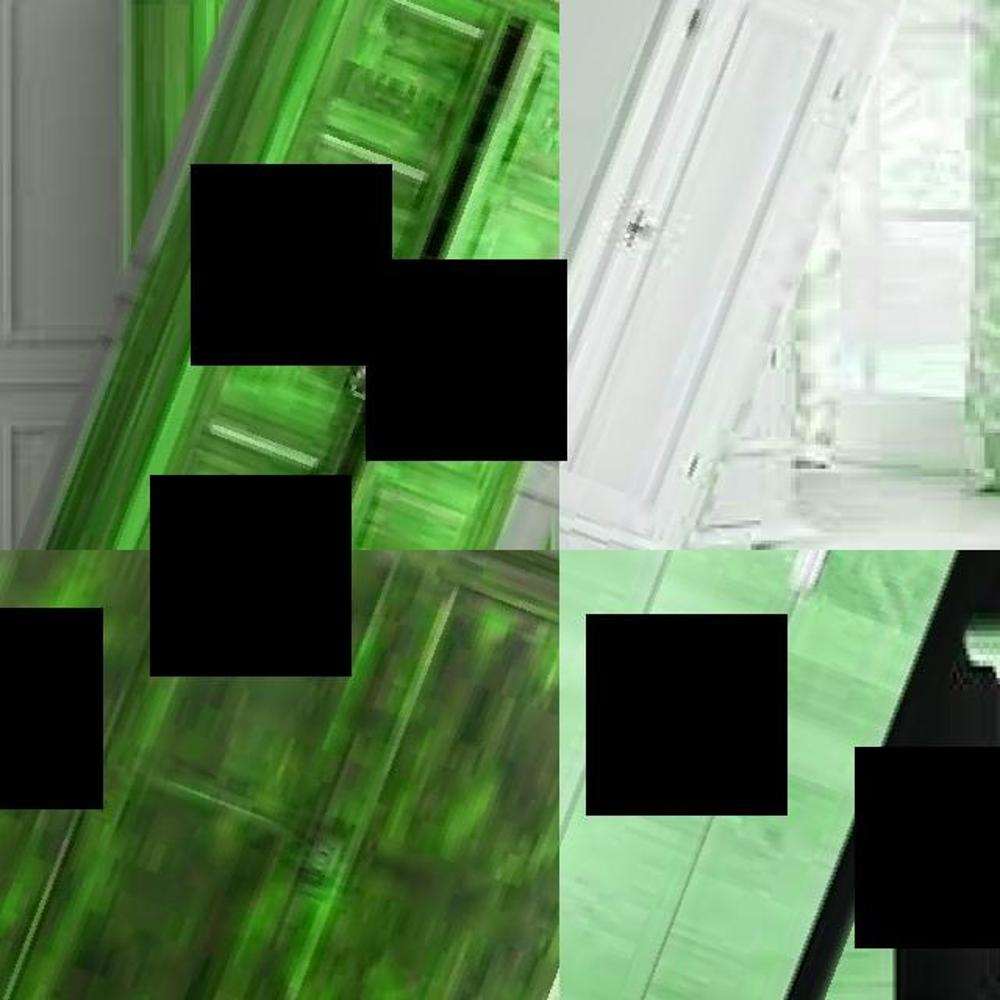cabinet: (33, 0, 559, 550), (0, 550, 559, 1000), (559, 0, 994, 550), (559, 550, 995, 1000)
